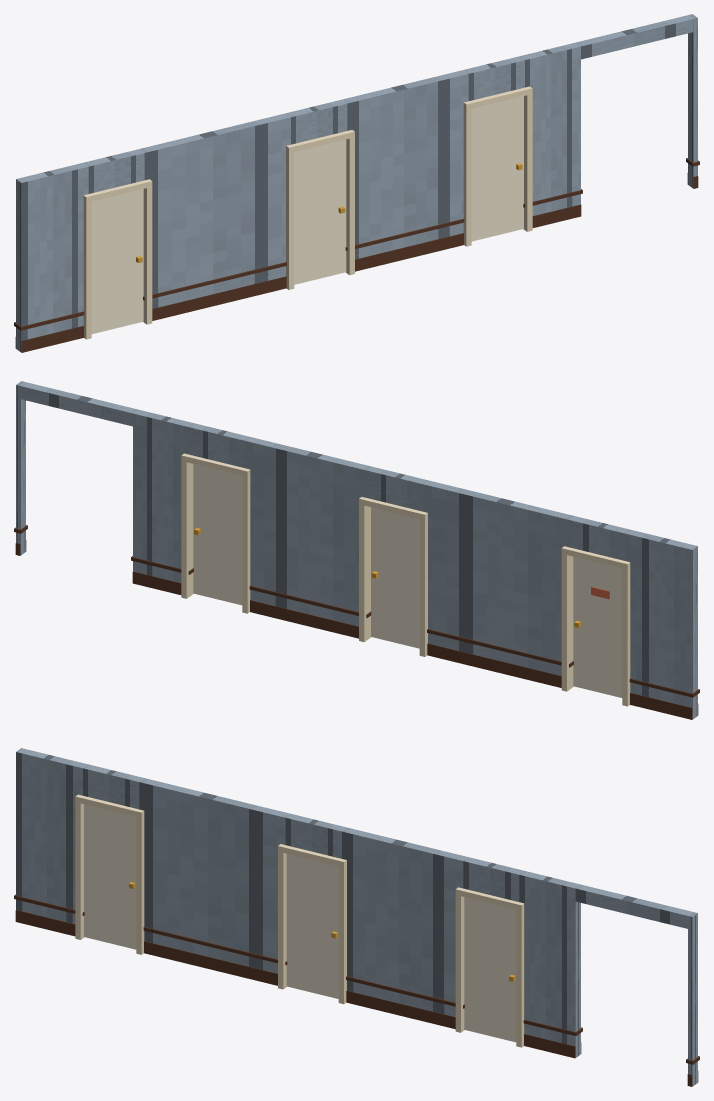
File: hall_back.glb
3 renders of one model, top to bottom at view 1: azimuth 30°, elevation 25°; view 2: azimuth 150°, elevation 25°; view 3: azimuth 330°, elevation 25°, orthographic.
Parts seen in each view (by area): view 1: Box3, Box5, Box1, Box7, Box25, Box31, Box18, Box14, Box11, Box13, Box12, Box4 (+13 smaller); view 2: Box3, Box5, Box1, Box7, Box25, Box31, Box18, Box14, Box11, Box13, Box12, Box16 (+13 smaller); view 3: Box3, Box5, Box1, Box7, Box18, Box25, Box31, Box14, Box13, Box11, Box12, Box4 (+12 smaller).
Boxes of the visible parts, <box> form: Box3: <box>139,113,290,308</box>; Box5: <box>342,70,468,259</box>; Box1: <box>16,163,88,352</box>; Box7: <box>520,42,580,215</box>; Box25: <box>471,96,523,241</box>; Box31: <box>294,139,346,284</box>; Box18: <box>91,189,143,334</box>; Box14: <box>576,15,693,59</box>; Box11: <box>83,149,144,193</box>; Box13: <box>464,56,524,100</box>; Box12: <box>286,99,347,144</box>; Box4: <box>152,276,286,320</box>; Box3: <box>423,480,574,675</box>; Box5: <box>245,437,371,626</box>; Box1: <box>625,530,697,719</box>; Box7: <box>133,409,193,582</box>; Box25: <box>193,464,242,605</box>; Box31: <box>371,507,419,648</box>; Box18: <box>573,556,622,697</box>; Box14: <box>20,382,137,426</box>; Box11: <box>569,516,630,560</box>; Box13: <box>189,423,249,467</box>; Box12: <box>366,466,427,511</box>; Box16: <box>561,546,573,691</box>; Box3: <box>139,778,290,973</box>; Box5: <box>342,827,468,1016</box>; Box1: <box>16,748,87,924</box>; Box7: <box>519,871,580,1057</box>; Box18: <box>84,804,136,949</box>; Box25: <box>464,897,516,1042</box>; Box31: <box>286,854,338,998</box>; Box14: <box>575,884,692,928</box>; Box13: <box>463,857,524,901</box>; Box11: <box>83,764,144,809</box>; Box12: <box>285,814,346,858</box>; Box4: <box>144,941,277,985</box>.
Size of the model in its own units: 10.89 by 2.6 by 0.3.
Materials: 6 (1 with a texture image).
